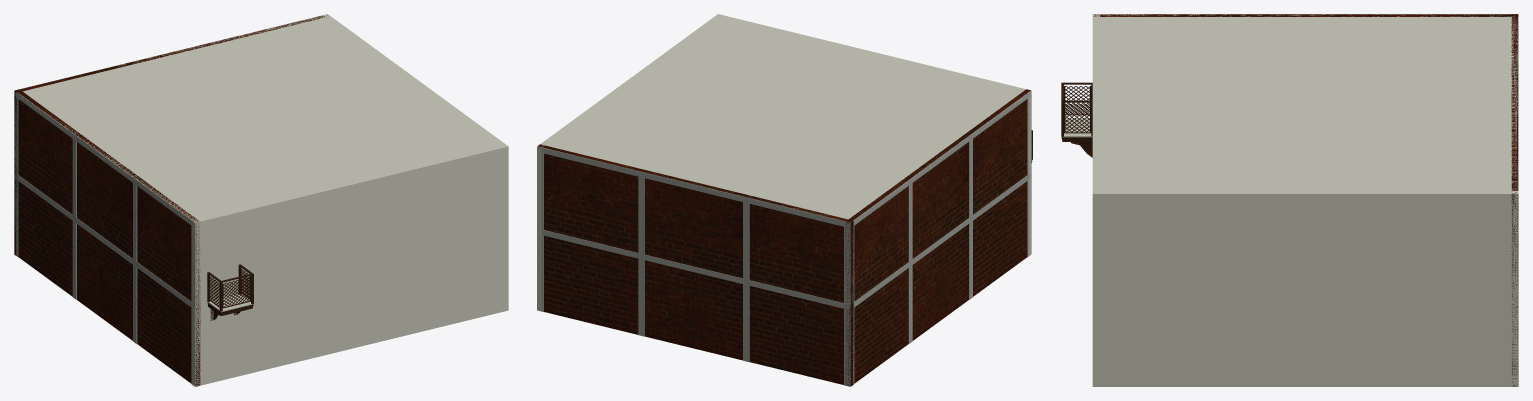
Rendered from building.glb.
3 renders of one model, left to right at view 1: azimuth 30°, elevation 25°; view 2: azimuth 150°, elevation 25°; view 3: azimuth 270°, elevation 25°, orthographic. The views are drawn at different scales.
Parts seen in each view (by area): view 1: roof/house:0/roof_slab#0001, house:0/edge0/z0/house:0/edge0/z0/wall_0_0, house:0/edge3/z0/house:0/edge3/z0/wall_0_0, house:0/edge2/z0/house:0/edge2/z0/wall_0_0, house:0/edge3/z0/house:0/edge3/z0/beam_0_0, house:0/edge3/z0/house:0/edge3/z0/beam_1_0, house:0/edge1/z0/house:0/edge1/z0/wall_0_0; view 2: roof/house:0/roof_slab#0001, house:0/edge2/z0/house:0/edge2/z0/wall_0_0, house:0/edge3/z0/house:0/edge3/z0/wall_0_0, house:0/edge1/z0/house:0/edge1/z0/wall_0_0, house:0/edge2/z0/house:0/edge2/z0/beam_1_0, house:0/edge2/z0/house:0/edge2/z0/beam_0_0, house:0/edge0/z0/house:0/edge0/z0/wall_0_0, house:0/edge3/z0/house:0/edge3/z0/beam_0_0, house:0/edge3/z0/house:0/edge3/z0/beam_1_0, house:0/edge2/z0/house:0/edge2/z0/column_2_0, house:0/edge2/z0/house:0/edge2/z0/column_2_1, house:0/edge2/z0/house:0/edge2/z0/column_3_0 (+3 smaller); view 3: house:0/edge1/z0/house:0/edge1/z0/wall_0_0, roof/house:0/roof_slab#0001, house:0/edge0/z0/house:0/edge0/z0/wall_0_0, house:0/edge2/z0/house:0/edge2/z0/wall_0_0, house:0/edge3/z0/house:0/edge3/z0/wall_0_0, balcony/sample/balcony_platform#0001.
Part boxes in pixels (<box>): roof/house:0/roof_slab#0001: <box>15,14,506,225</box>; house:0/edge0/z0/house:0/edge0/z0/wall_0_0: <box>192,144,508,386</box>; house:0/edge3/z0/house:0/edge3/z0/wall_0_0: <box>17,89,200,386</box>; house:0/edge2/z0/house:0/edge2/z0/wall_0_0: <box>14,15,327,255</box>; house:0/edge3/z0/house:0/edge3/z0/beam_0_0: <box>14,173,195,309</box>; house:0/edge3/z0/house:0/edge3/z0/beam_1_0: <box>14,92,195,227</box>; house:0/edge1/z0/house:0/edge1/z0/wall_0_0: <box>323,14,508,311</box>; roof/house:0/roof_slab#0001: <box>540,14,1031,223</box>; house:0/edge2/z0/house:0/edge2/z0/wall_0_0: <box>538,144,853,386</box>; house:0/edge3/z0/house:0/edge3/z0/wall_0_0: <box>845,89,1030,385</box>; house:0/edge1/z0/house:0/edge1/z0/wall_0_0: <box>537,15,722,311</box>; house:0/edge2/z0/house:0/edge2/z0/beam_1_0: <box>538,147,850,228</box>; house:0/edge2/z0/house:0/edge2/z0/beam_0_0: <box>542,230,850,309</box>; house:0/edge0/z0/house:0/edge0/z0/wall_0_0: <box>717,14,1031,256</box>; house:0/edge3/z0/house:0/edge3/z0/beam_0_0: <box>850,172,1031,309</box>; house:0/edge3/z0/house:0/edge3/z0/beam_1_0: <box>850,90,1031,227</box>; house:0/edge2/z0/house:0/edge2/z0/column_2_0: <box>638,176,644,254</box>; house:0/edge2/z0/house:0/edge2/z0/column_2_1: <box>638,258,644,336</box>; house:0/edge2/z0/house:0/edge2/z0/column_3_0: <box>743,202,749,280</box>; house:0/edge1/z0/house:0/edge1/z0/wall_0_0: <box>1092,191,1518,386</box>; roof/house:0/roof_slab#0001: <box>1092,14,1518,198</box>; house:0/edge0/z0/house:0/edge0/z0/wall_0_0: <box>1092,14,1099,386</box>; house:0/edge2/z0/house:0/edge2/z0/wall_0_0: <box>1511,14,1518,386</box>; house:0/edge3/z0/house:0/edge3/z0/wall_0_0: <box>1093,14,1517,16</box>; balcony/sample/balcony_platform#0001: <box>1063,118,1092,137</box>.
Bounding box in the file's own units: 12 × 6 × 12.89.
Materials: 4 (2 with a texture image).
